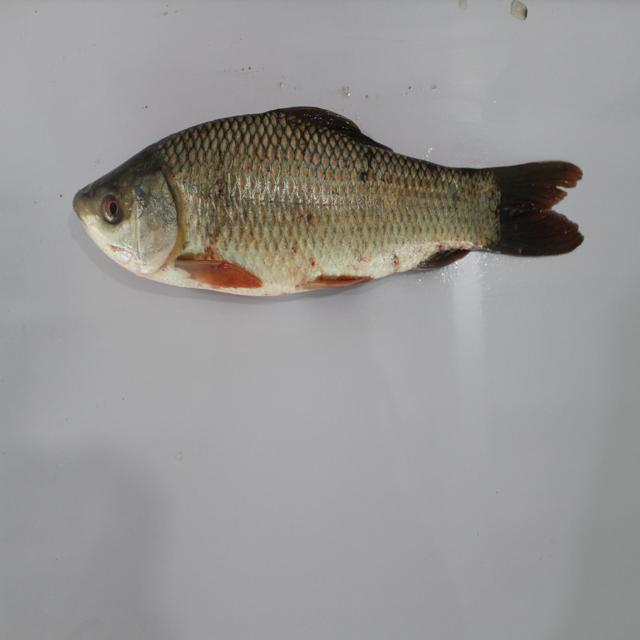Rohu: (62, 99, 587, 312)
